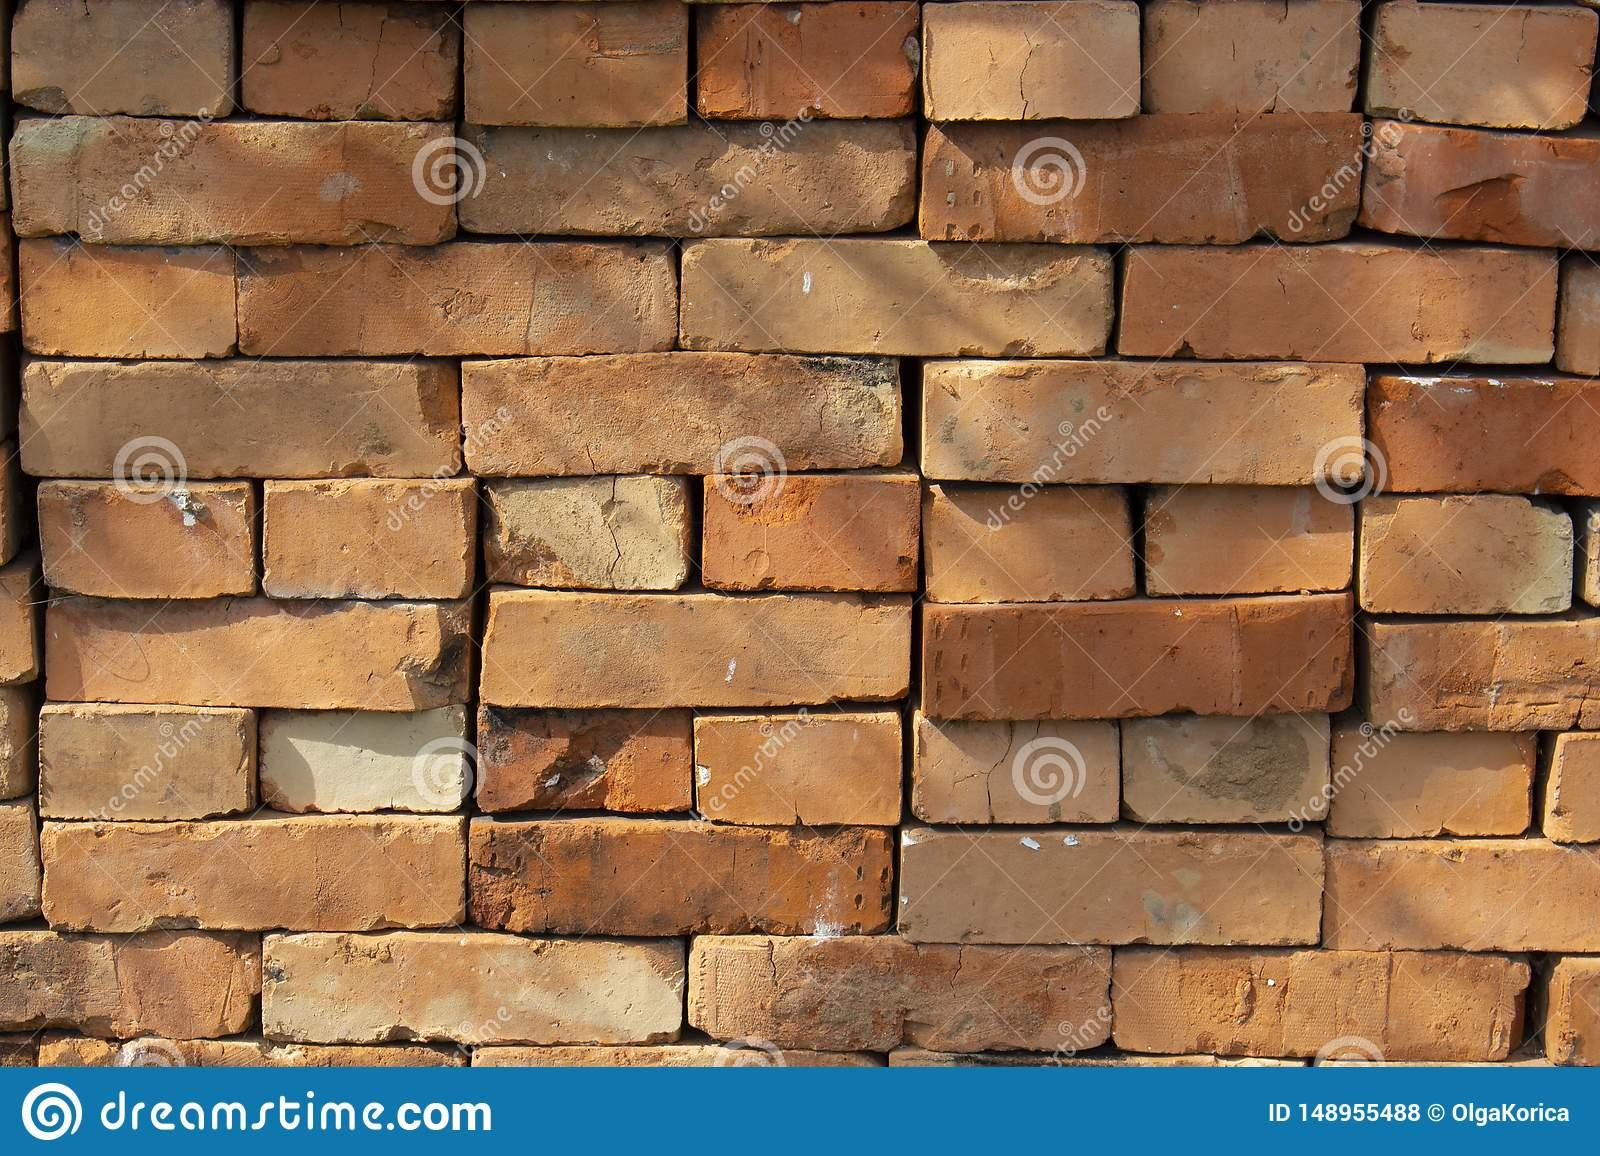brick: (920, 109, 1365, 241), (9, 115, 457, 245), (922, 360, 1365, 483), (922, 594, 1353, 719), (1118, 245, 1560, 364), (463, 354, 901, 474), (460, 120, 916, 233), (680, 240, 1114, 358), (20, 361, 458, 478), (689, 934, 1112, 1053), (898, 826, 1324, 944), (239, 242, 678, 356), (41, 815, 465, 932), (467, 818, 893, 935), (478, 592, 912, 707), (47, 598, 472, 713), (262, 934, 683, 1047), (1113, 951, 1529, 1062), (1363, 119, 1600, 250), (1327, 839, 1600, 951), (1365, 1, 1600, 127), (1364, 374, 1600, 498), (466, 1, 688, 125), (0, 931, 260, 1037), (922, 0, 1142, 120), (1370, 617, 1600, 730), (694, 1, 919, 117), (19, 240, 234, 359), (11, 1, 234, 115), (1361, 495, 1573, 615), (702, 474, 919, 590), (242, 2, 455, 120), (922, 484, 1133, 602), (37, 482, 252, 597), (1147, 0, 1363, 111), (486, 473, 689, 590), (262, 479, 466, 596), (912, 713, 1119, 826), (1145, 485, 1353, 595), (40, 711, 247, 821), (694, 715, 902, 824), (477, 707, 691, 812), (1328, 730, 1537, 838), (1122, 715, 1327, 823), (260, 705, 465, 812)
